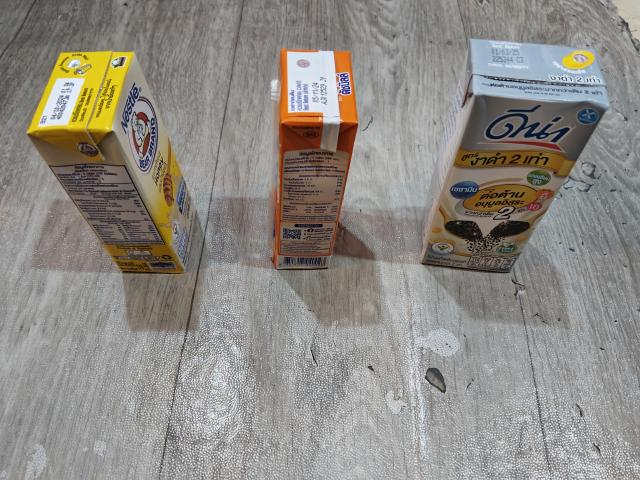drink_box: (410, 33, 623, 286), (15, 41, 207, 284), (263, 43, 366, 284)
